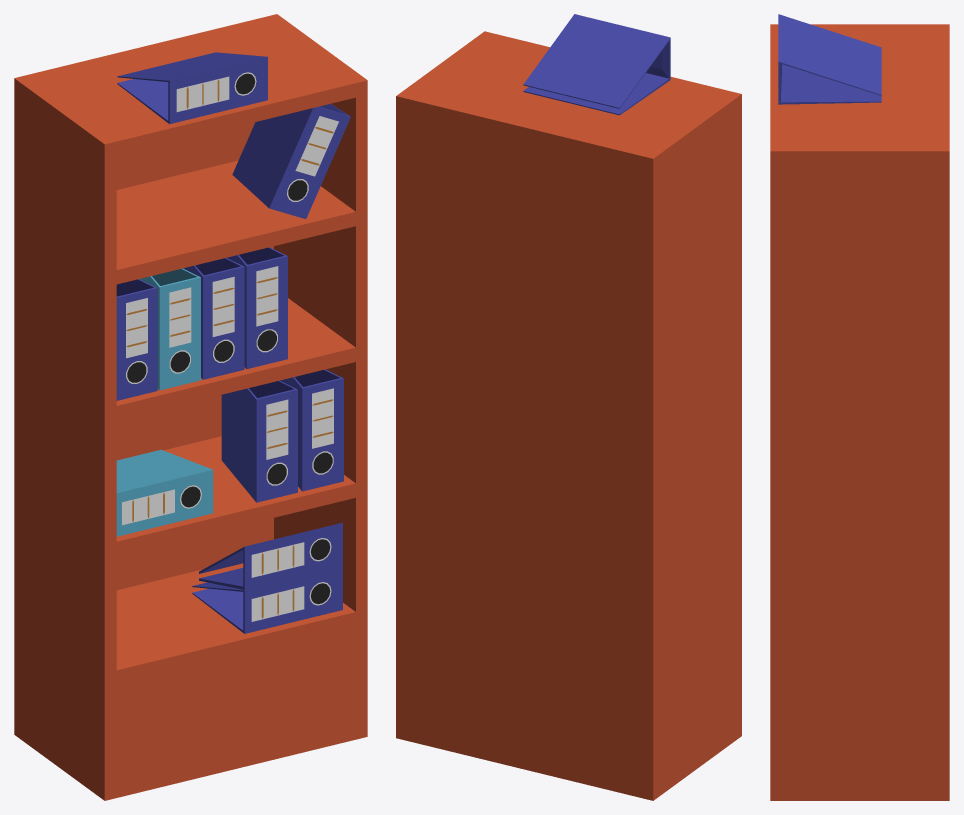
File: bookshelf.fbx
3 renders of one model, left to right at view 1: azimuth 30°, elevation 25°; view 2: azimuth 150°, elevation 25°; view 3: azimuth 270°, elevation 25°, orthographic. The views are drawn at different scales.
Visible parts, largest first — view 1: bookshelf; view 2: bookshelf; view 3: bookshelf.
Boxes of the visible parts, x1,y1,x2,y2 form: bookshelf: (14, 14, 367, 800); bookshelf: (396, 14, 741, 800); bookshelf: (770, 14, 949, 800).
Bounding box in the file's own units: 115 × 293 × 68.6.
